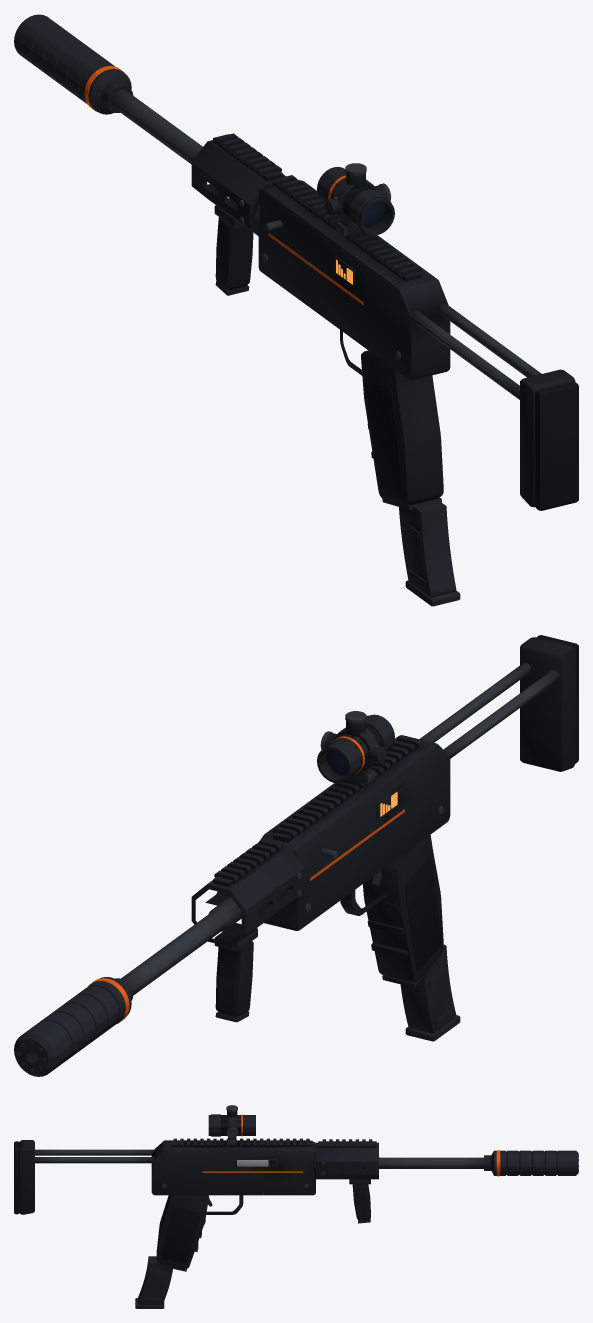
3 views of the same model, one above another, from view 1: azimuth 30°, elevation 25°; view 2: azimuth 150°, elevation 25°; view 3: azimuth 270°, elevation 25° (orthographic). The views are drawn at different scales.
Visible parts, largest first — view 1: body_frame, body_polymer, body_frame2, body_rubber, body_steel, mag_frame2, body_accent; view 2: body_frame, body_polymer, body_frame2, body_steel, body_rubber, mag_frame2, body_accent; view 3: body_frame, body_frame2, body_polymer, body_steel, body_rubber, mag_frame2, body_accent.
Boxes of the visible parts, x1=… form: body_frame: x1=191, y1=133, x2=450, y2=380; body_polymer: x1=215, y1=217, x2=575, y2=507; body_frame2: x1=14, y1=14, x2=441, y2=510; body_rubber: x1=365, y1=381, x2=578, y2=510; body_steel: x1=111, y1=89, x2=541, y2=399; mag_frame2: x1=399, y1=500, x2=460, y2=606; body_accent: x1=84, y1=66, x2=363, y2=304; body_frame: x1=191, y1=735, x2=450, y2=946; body_polymer: x1=215, y1=637, x2=575, y2=1016; body_frame2: x1=14, y1=714, x2=441, y2=1076; body_steel: x1=17, y1=663, x2=559, y2=1071; body_rubber: x1=404, y1=635, x2=578, y2=970; mag_frame2: x1=400, y1=944, x2=460, y2=1041; body_accent: x1=89, y1=736, x2=404, y2=1023; body_frame: x1=151, y1=1138, x2=378, y2=1195; body_frame2: x1=157, y1=1110, x2=578, y2=1271; body_polymer: x1=19, y1=1140, x2=370, y2=1269; body_steel: x1=34, y1=1105, x2=578, y2=1206; body_rubber: x1=14, y1=1141, x2=200, y2=1263; mag_frame2: x1=135, y1=1256, x2=172, y2=1308; body_accent: x1=202, y1=1114, x2=500, y2=1176.
Size of the model in its own units: 0.0635 by 0.346 by 0.8946.
